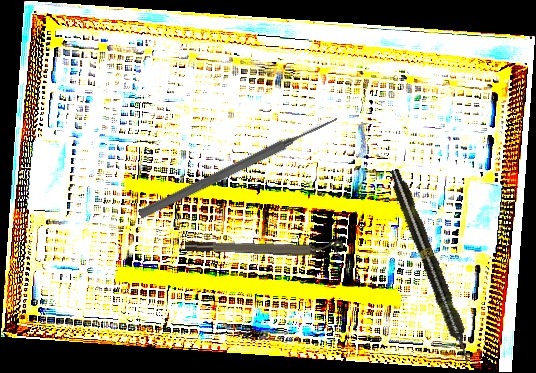Fixation Ring: (184, 231, 344, 263)
Handpiece: (385, 166, 477, 366)
Pusher: (137, 112, 340, 222)
